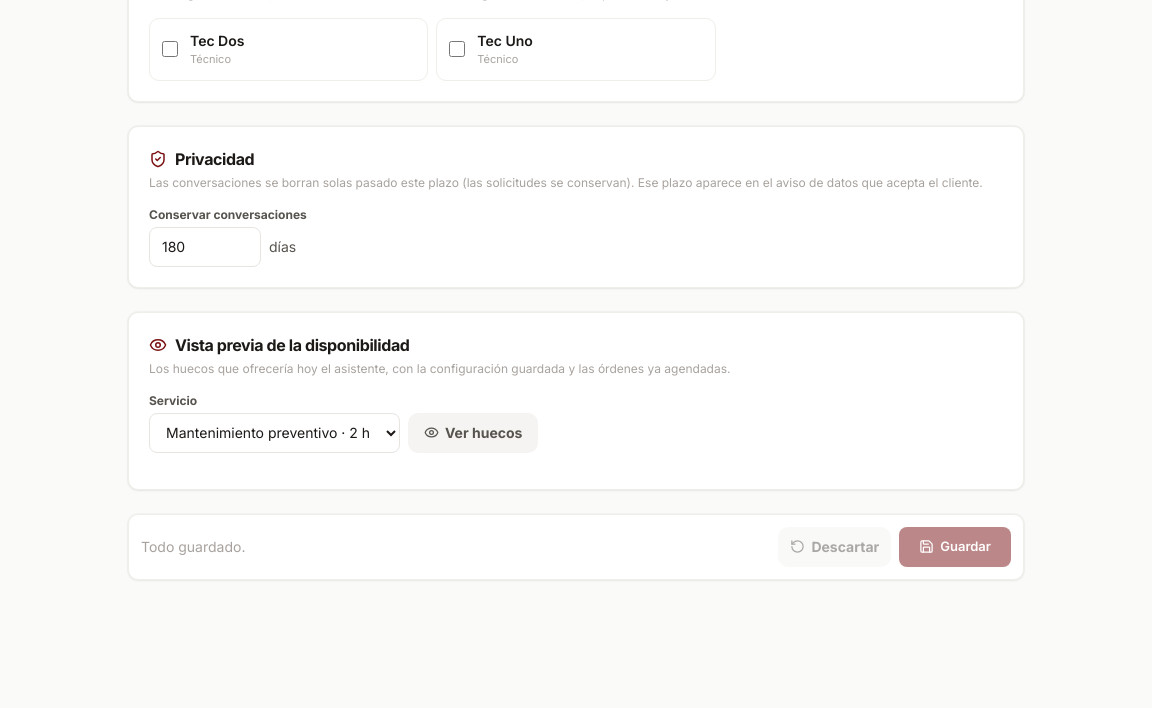
Test: AssistantSettingsSection › la vista previa pide huecos con la duración del servicio elegido
(page scrolled)
Click the button "Ver huecos" at (473, 432), box [408,412,538,452]
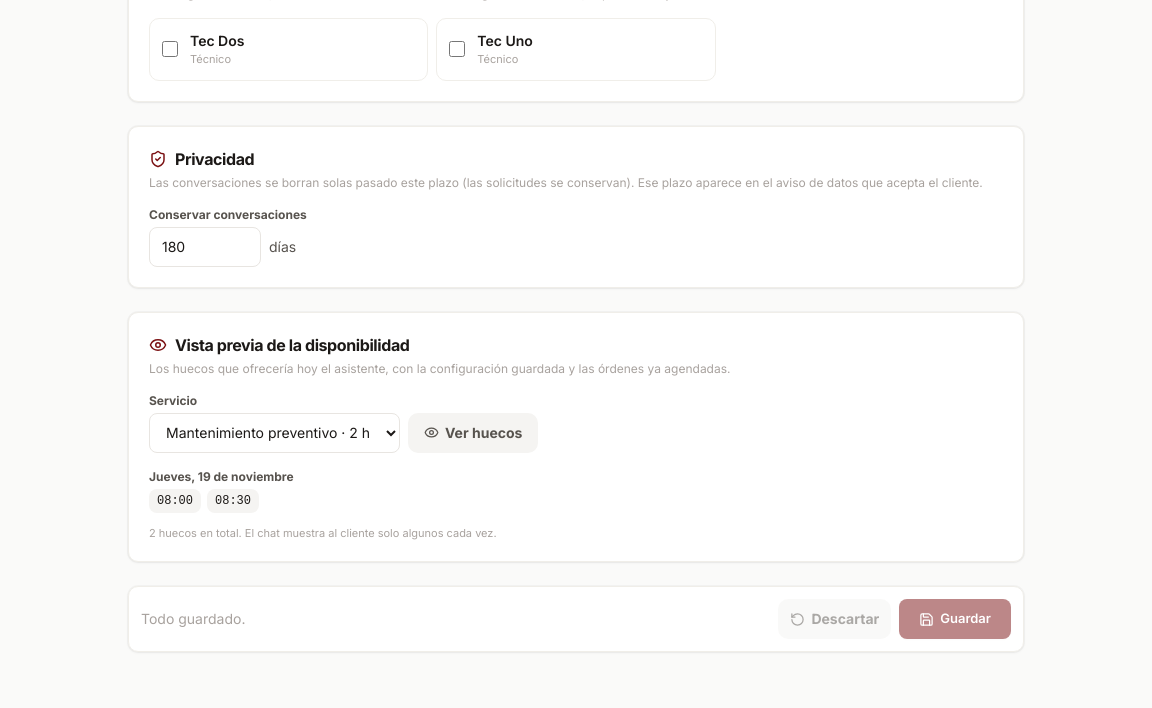
Expected: the text "08:00" is shown, [149,488,201,512]
Result: the text "2 huecos en total" is shown at [149,526,497,540]
